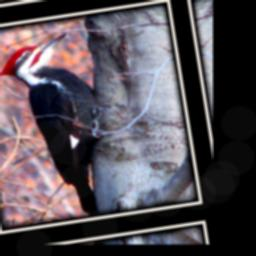Woodpecker: (0, 28, 128, 228)
